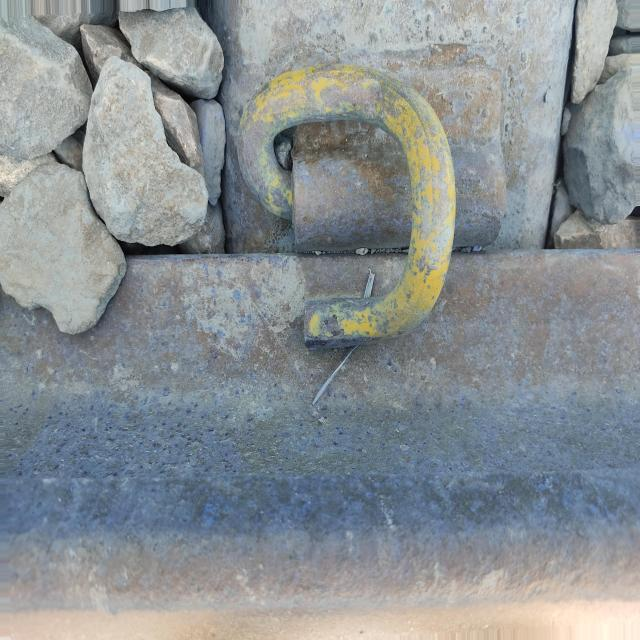Good Fasteners: (221, 1, 506, 351)
